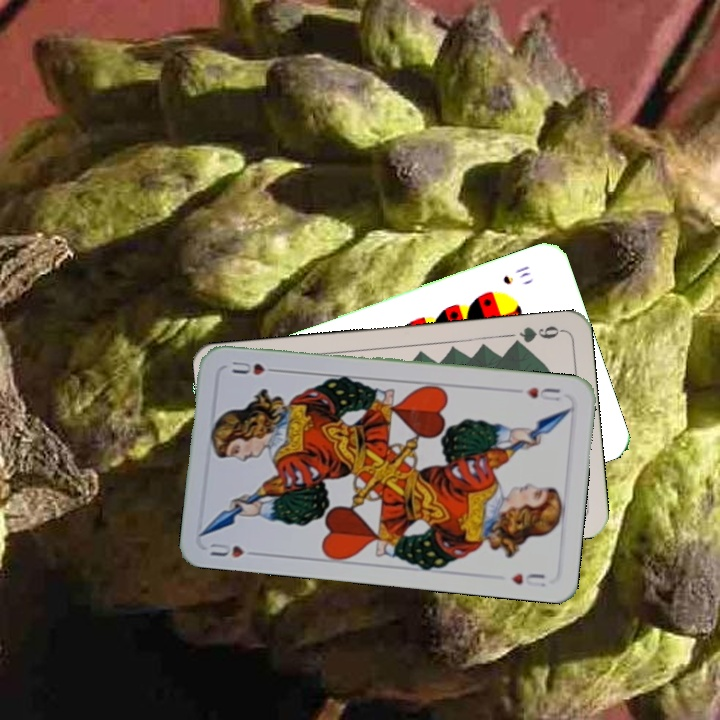G9: (507, 322, 565, 350)
HU: (205, 539, 263, 560), (523, 383, 563, 404)
S10: (498, 261, 533, 287)
